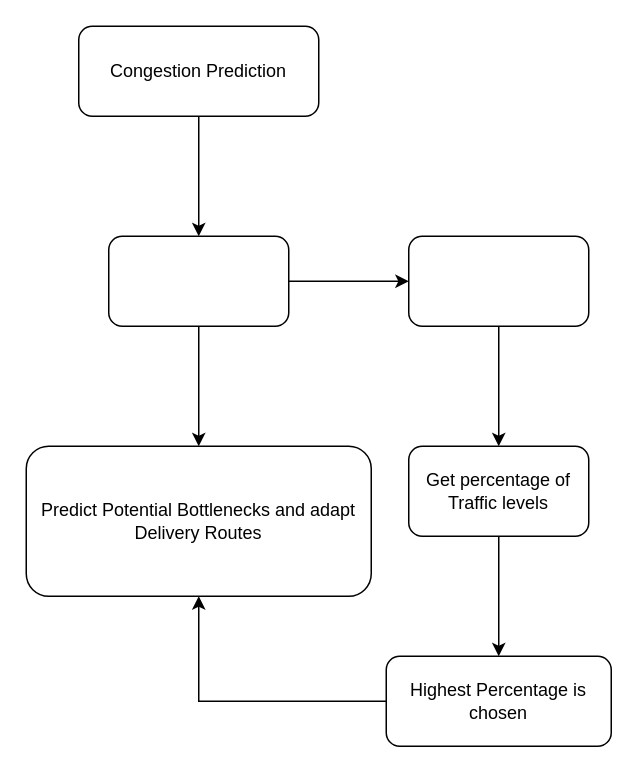
The diagram is 638 pixels wide and 773 high, and some of its shapes have lost their labels. The shapes that lost their labels are listed below. From the top down, each one's centre as x and y in pixels, then its label:
At point 198,280: "Historical Data".
At point 498,280: "Store History for each road".
